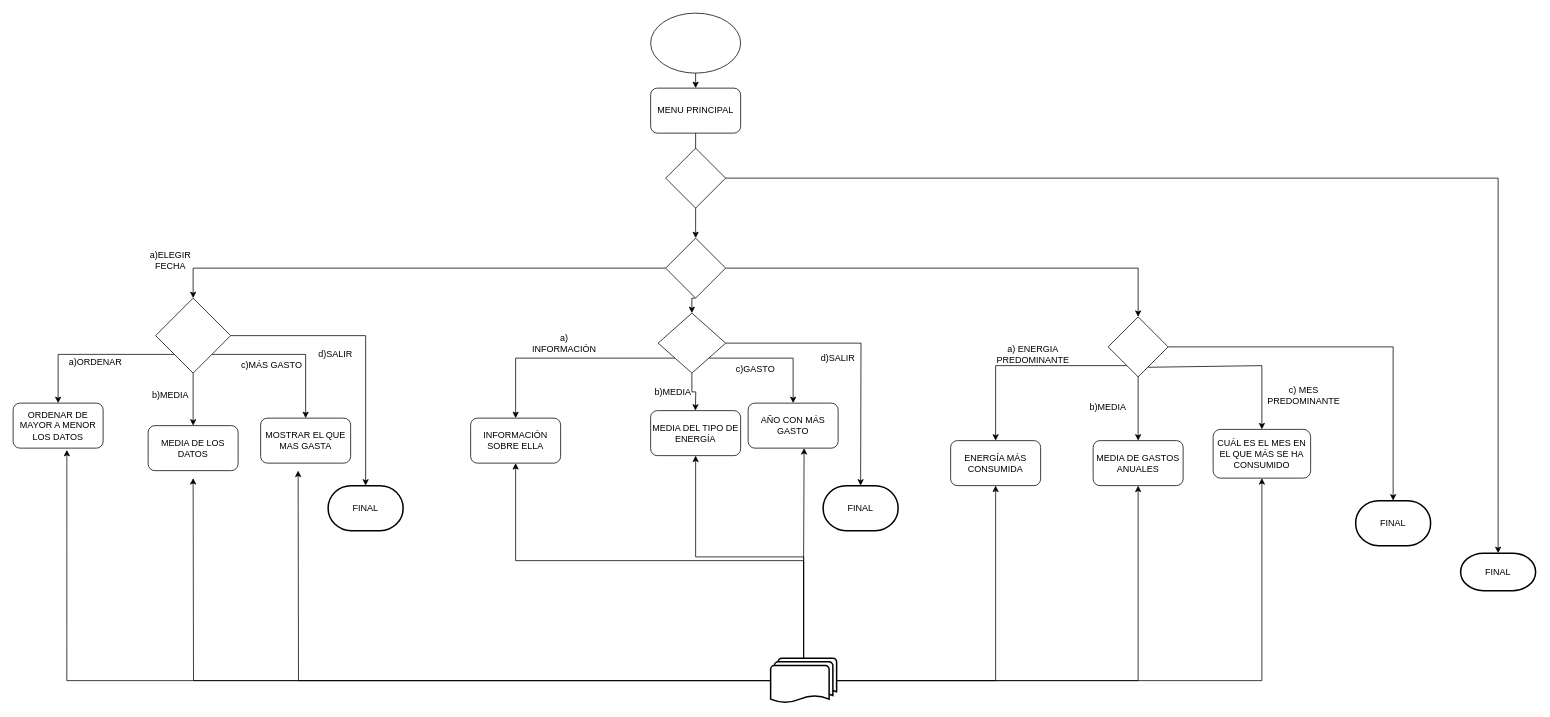
This 1550x717 diagram has some shape labels left out. Here are the shapes that lost their labels. From the top down, the centre of each, then its label:
pixel 695 42: INICIO
pixel 695 177: ELEGIR ENTRE CO2 O GWh
pixel 695 267: ELIJA FUNCIÓN
pixel 193 335: QUE FUNCION HACER EN RELACION CON LA FECHA
pixel 691 342: ELEGIR TIPO DE ENERGÍA
pixel 1137 346: ELEGIR AÑO
pixel 803 680: FICHEROS DE CO2 Y GWh
